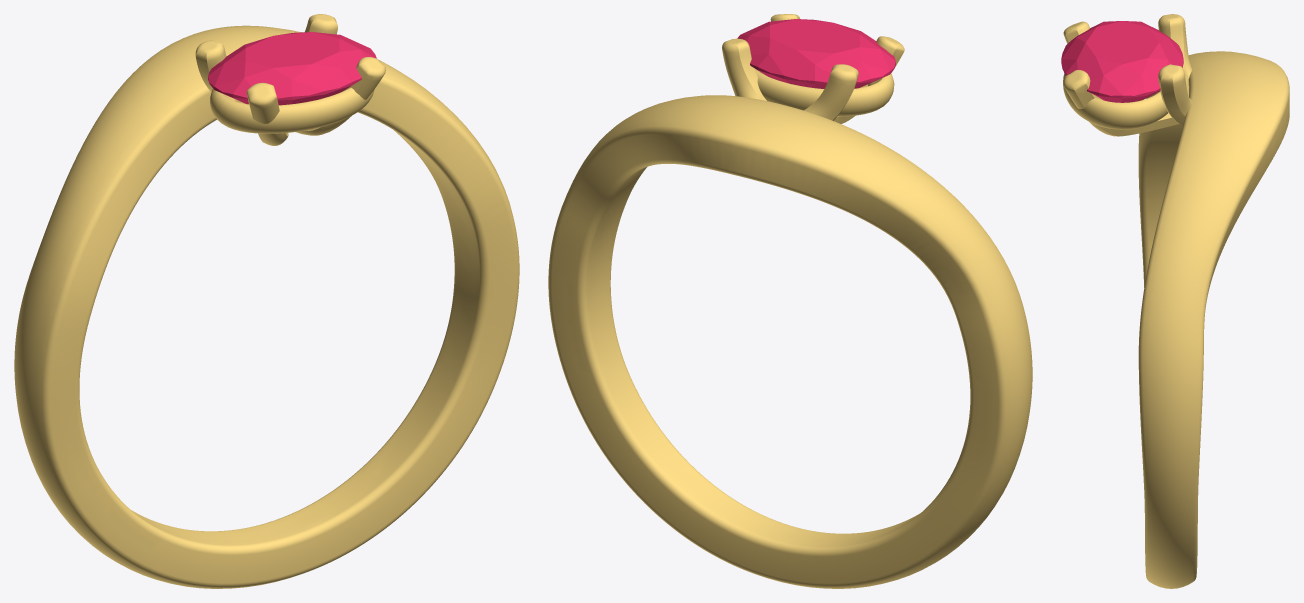
File: ChrisRubyYG_blender.glb
3 views of the same model, side by side, from view 1: azimuth 30°, elevation 25°; view 2: azimuth 150°, elevation 25°; view 3: azimuth 270°, elevation 25° (orthographic). The views are drawn at different scales.
Visible parts, largest first — view 1: Chris YG for 3d model, Chris ruby for 3d model; view 2: Chris YG for 3d model, Chris ruby for 3d model; view 3: Chris YG for 3d model, Chris ruby for 3d model.
Boxes of the visible parts, bbox=[...] form: Chris YG for 3d model: bbox=[14, 14, 519, 588]; Chris ruby for 3d model: bbox=[208, 32, 376, 105]; Chris YG for 3d model: bbox=[548, 14, 1032, 588]; Chris ruby for 3d model: bbox=[737, 19, 895, 88]; Chris YG for 3d model: bbox=[1063, 14, 1289, 588]; Chris ruby for 3d model: bbox=[1061, 21, 1183, 102].
Bounding box in the file's own units: 21.96 × 23.51 × 9.33.
